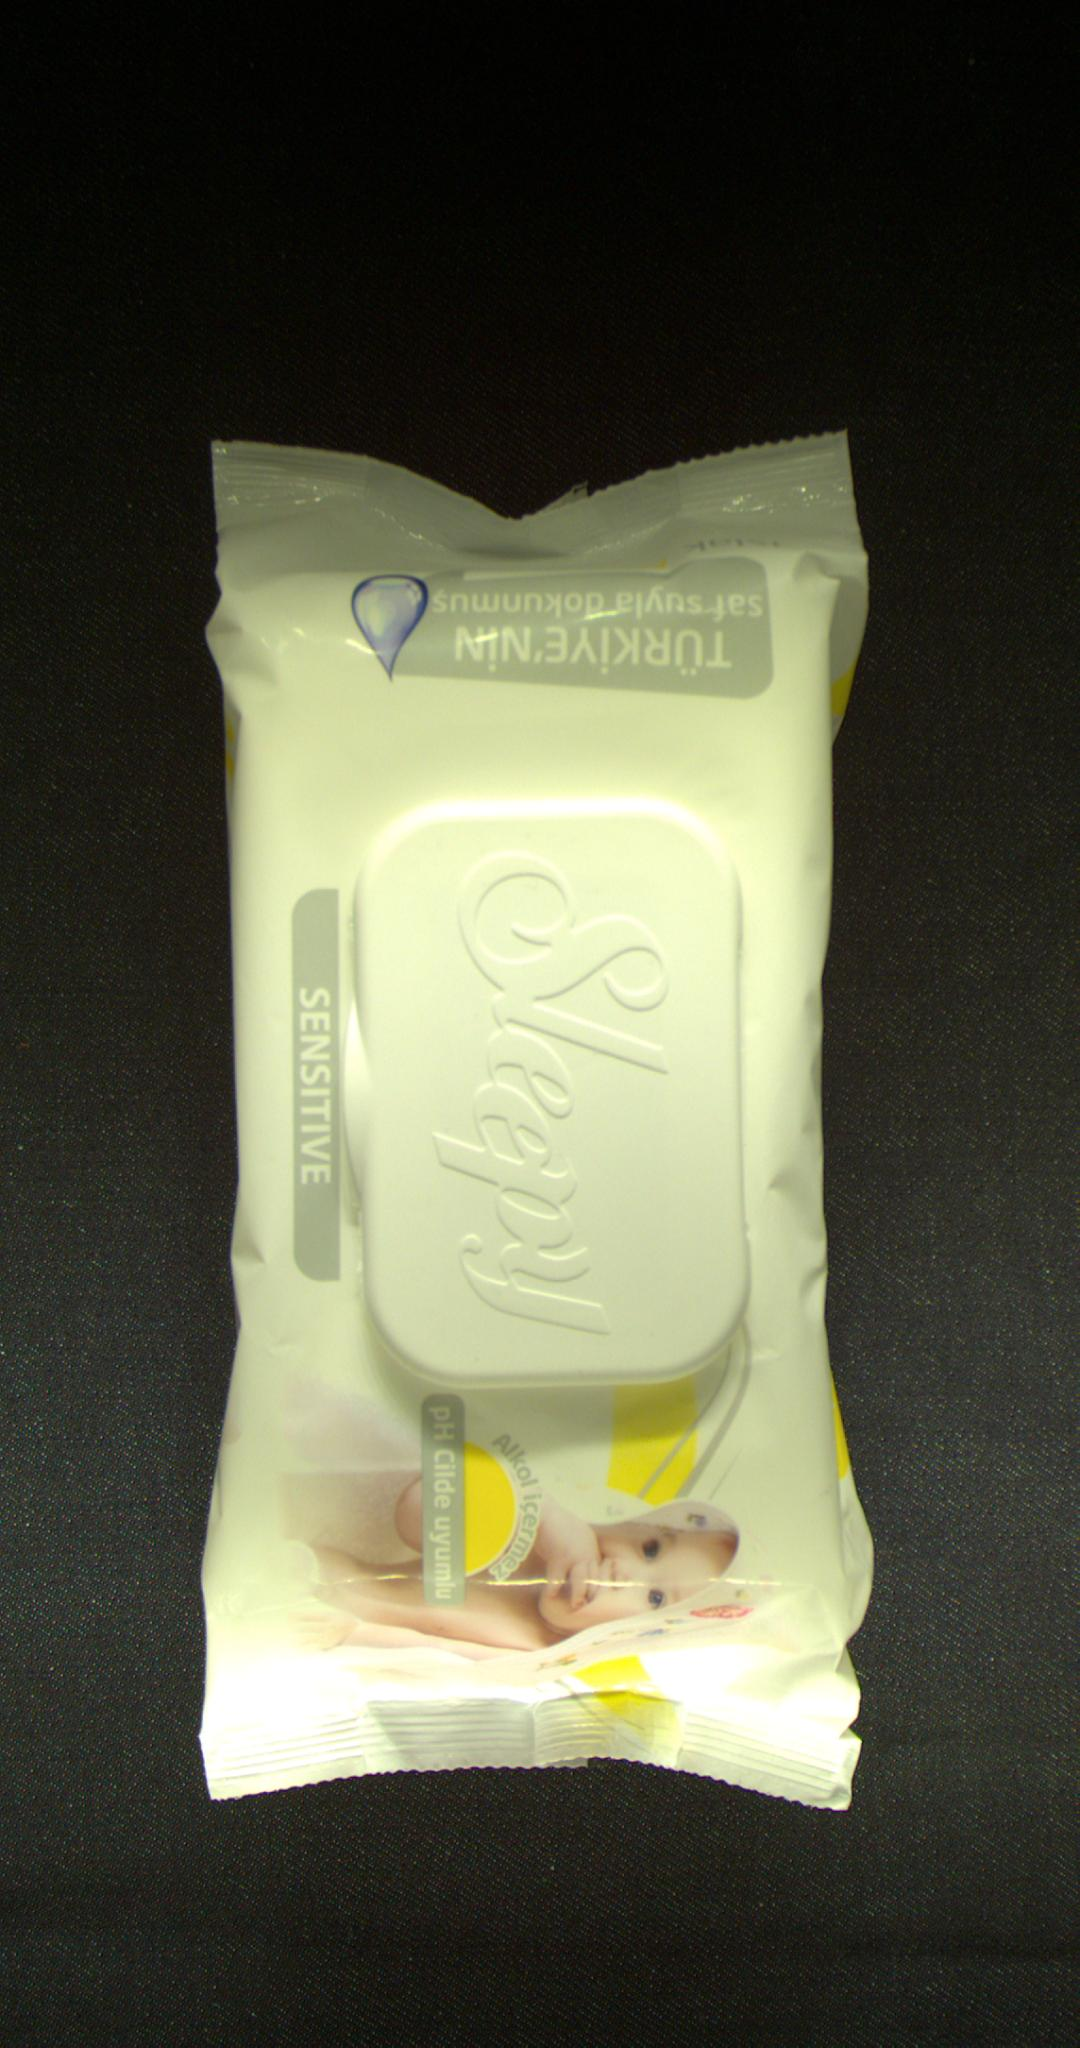kapak: (347, 794, 757, 1390)
